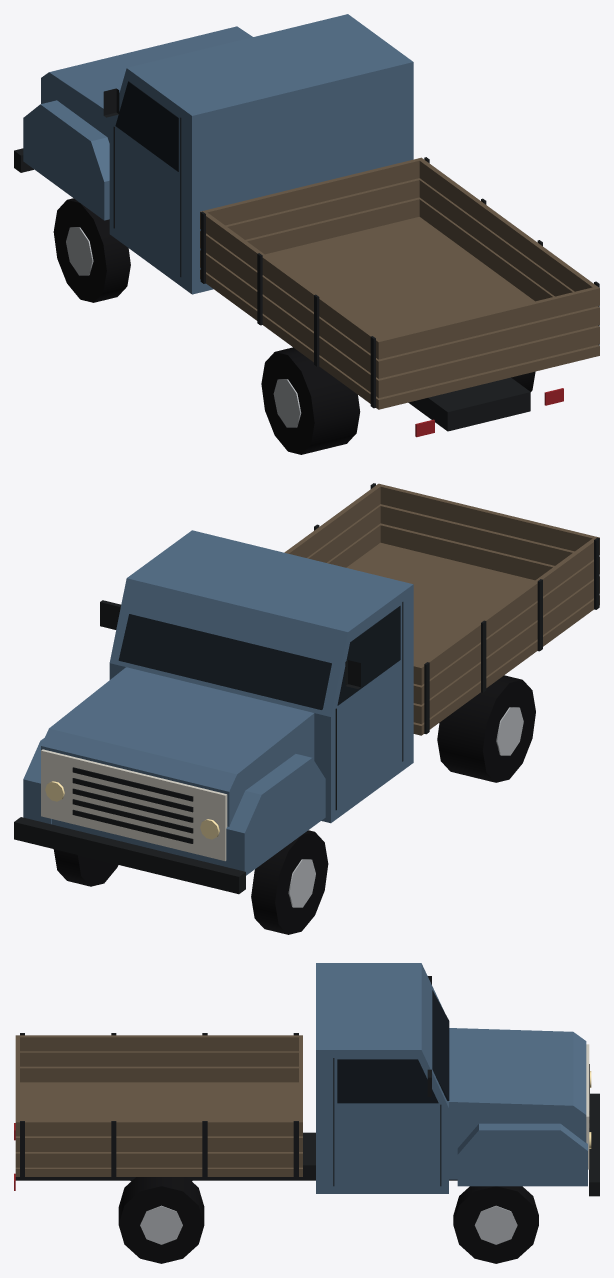
The model's file is car-truck.glb.
3 renders of one model, top to bottom at view 1: azimuth 30°, elevation 25°; view 2: azimuth 150°, elevation 25°; view 3: azimuth 270°, elevation 25°, orthographic. The views are drawn at different scales.
Parts seen in each view (by area): view 1: 08_#6a5a48_r320, 00_#55708a_r320, 05_#141416_r320, 02_#1e2022_noshadow_r110, 01_#1a2026_noshadow_r320, 06_#b8bcc0_noshadow_r110; view 2: 00_#55708a_r320, 08_#6a5a48_r320, 05_#141416_r320, 01_#1a2026_noshadow_r320, 02_#1e2022_noshadow_r110, 03_#e0dcd0_r320, 06_#b8bcc0_noshadow_r110, 04_#ffe9b0_noshadow; view 3: 00_#55708a_r320, 08_#6a5a48_r320, 05_#141416_r320, 01_#1a2026_noshadow_r320, 02_#1e2022_noshadow_r110, 06_#b8bcc0_noshadow_r110, 03_#e0dcd0_r320.
Boxes of the visible parts, bbox=[...] form: 08_#6a5a48_r320: bbox=[200, 157, 599, 409]; 00_#55708a_r320: bbox=[23, 14, 413, 294]; 05_#141416_r320: bbox=[53, 198, 535, 454]; 02_#1e2022_noshadow_r110: bbox=[14, 88, 599, 431]; 01_#1a2026_noshadow_r320: bbox=[115, 81, 178, 171]; 06_#b8bcc0_noshadow_r110: bbox=[66, 227, 301, 427]; 00_#55708a_r320: bbox=[23, 530, 413, 875]; 08_#6a5a48_r320: bbox=[284, 483, 599, 735]; 05_#141416_r320: bbox=[53, 675, 535, 934]; 01_#1a2026_noshadow_r320: bbox=[118, 605, 400, 709]; 02_#1e2022_noshadow_r110: bbox=[14, 483, 599, 894]; 03_#e0dcd0_r320: bbox=[41, 749, 227, 861]; 06_#b8bcc0_noshadow_r110: bbox=[288, 707, 523, 907]; 04_#ffe9b0_noshadow: bbox=[45, 781, 219, 839]; 00_#55708a_r320: bbox=[316, 963, 587, 1193]; 08_#6a5a48_r320: bbox=[15, 1035, 302, 1176]; 05_#141416_r320: bbox=[118, 1177, 538, 1263]; 01_#1a2026_noshadow_r320: bbox=[337, 990, 449, 1103]; 02_#1e2022_noshadow_r110: bbox=[15, 976, 599, 1196]; 06_#b8bcc0_noshadow_r110: bbox=[140, 1205, 517, 1244]; 03_#e0dcd0_r320: bbox=[586, 1044, 589, 1169].
Bounding box in the file's own units: 2.8 × 2.75 × 6.83.
